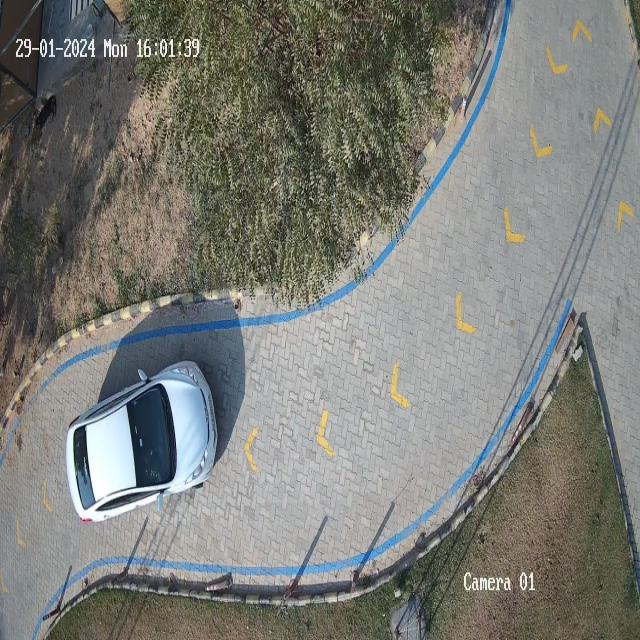car: (63, 359, 217, 523)
